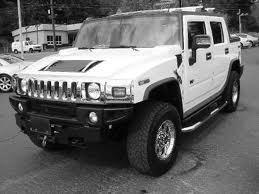car: (9, 11, 246, 179)
